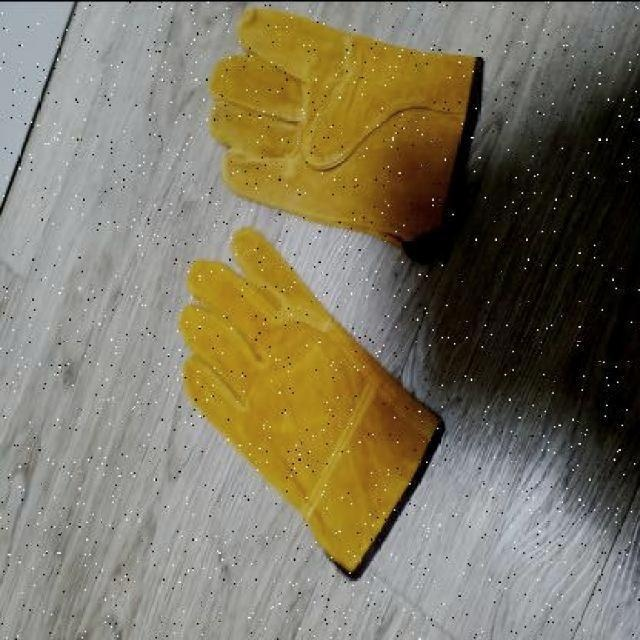Guantes: (177, 225, 446, 579)
